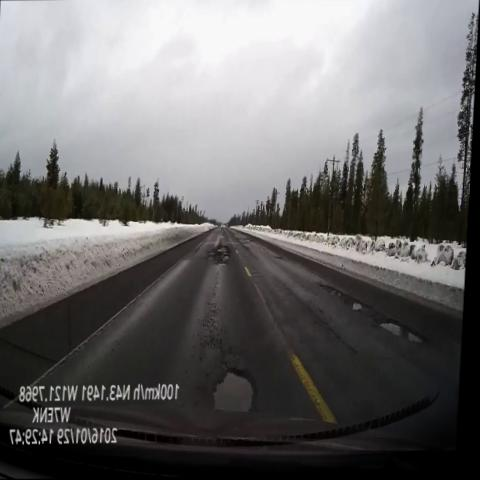pothole: (203, 356, 269, 422), (316, 270, 373, 321), (382, 312, 430, 348), (203, 240, 240, 273), (263, 246, 291, 268)
